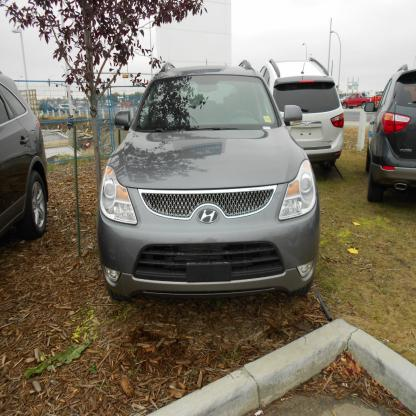Vehicle: (99, 60, 325, 306)
